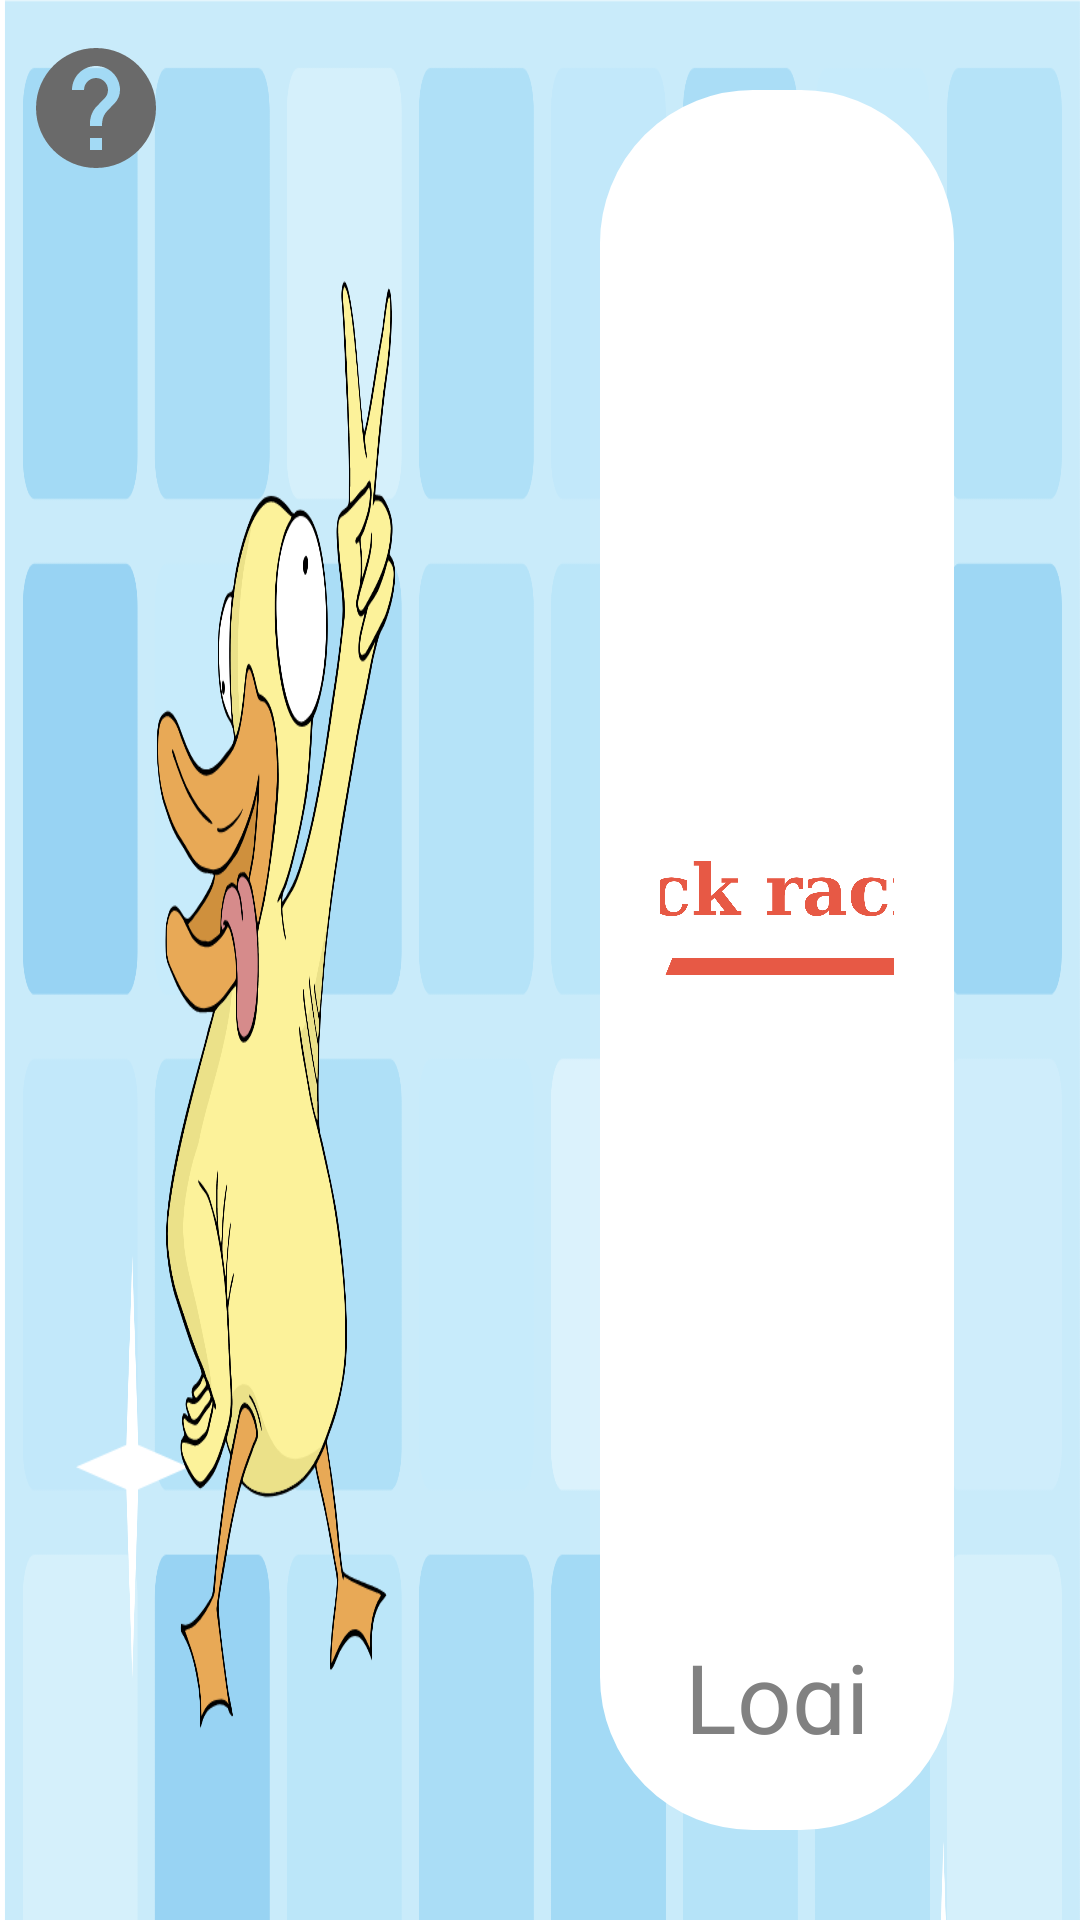

Where to tap for icons on this 1080px x 1920px app screen, as (x=x, y=y):
help: (x=96, y=108)
